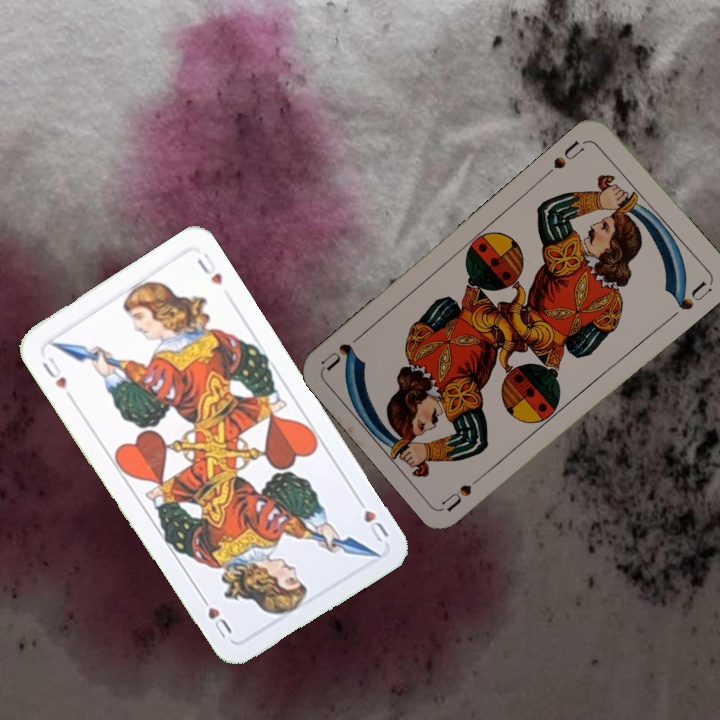HU: (351, 492, 392, 545), (37, 353, 69, 393)
SU: (439, 467, 491, 513), (541, 136, 590, 179)
